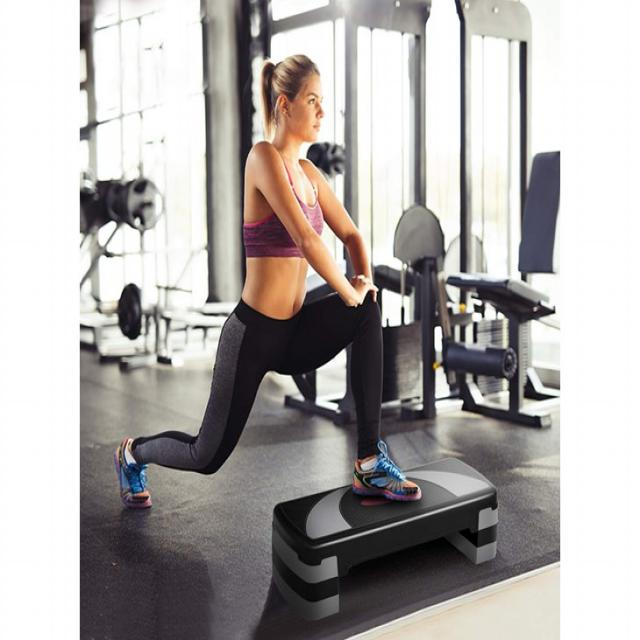Step: (266, 443, 512, 634)
